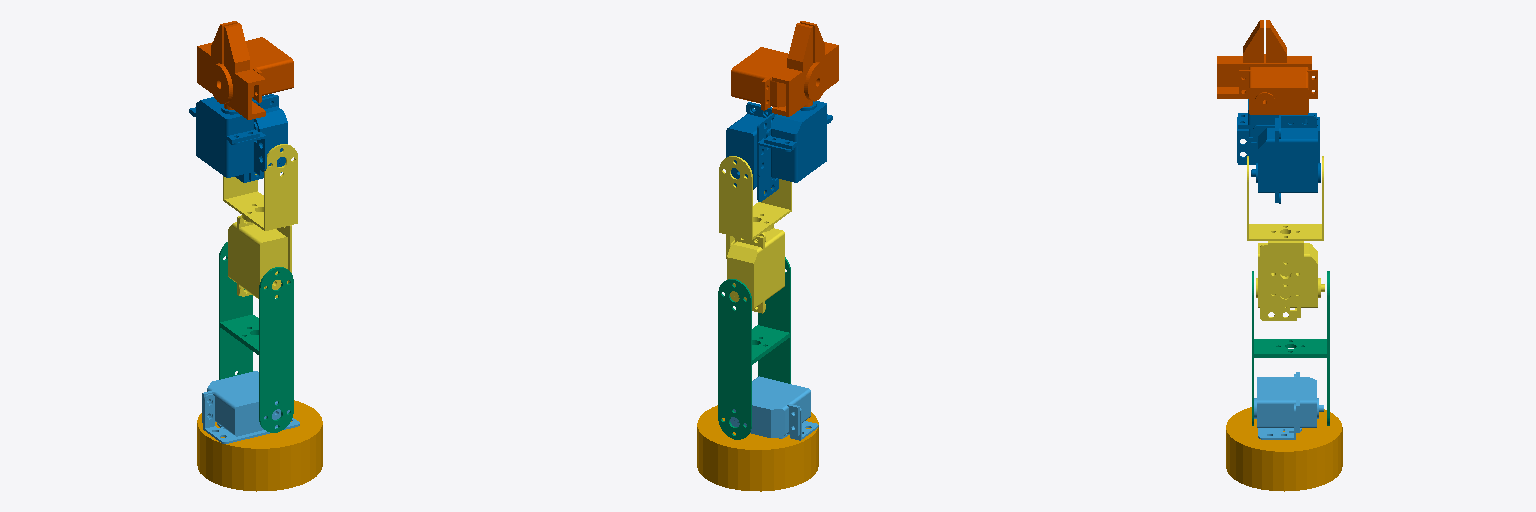
robot.urdf — robot_arm:
<?xml version="1.0"?>
<robot name="robot_arm">
    <link name="base">
        <visual>
            <origin xyz="0 0 -0.015" rpy="0 0 0"/>
            <geometry>
                <cylinder radius="0.04" length="0.03"/>
            </geometry>
        </visual>
        <collision>
            <origin xyz="0 0 -0.015" rpy="0 0 0"/>
            <geometry>
                <cylinder radius="0.04" length="0.03"/>
            </geometry>
        </collision>
    </link>
    <link name="upper_arm">
        <visual>
            <origin xyz="0 0 0" rpy="0 0 0"/>
            <geometry>
                <mesh filename="package://robot_arm_description/models/upper_arm.stl"/>
            </geometry>
        </visual>
        <collision>
            <origin xyz="0 0 0" rpy="0 0 0"/>
            <geometry>
                <mesh filename="package://robot_arm_description/models/upper_arm.stl"/>
            </geometry>
        </collision>
    </link>
    <link name="arm">
        <visual>
            <origin xyz="0 0 0" rpy="0 0 0"/>
            <geometry>
                <mesh filename="package://robot_arm_description/models/arm.stl"/>
            </geometry>
        </visual>
        <collision>
            <origin xyz="0 0 0" rpy="0 0 0"/>
            <geometry>
                <mesh filename="package://robot_arm_description/models/arm.stl"/>
            </geometry>
        </collision>
    </link>
    <link name="forearm">
        <visual>
            <origin xyz="0 0.001 0" rpy="0 0 0"/>
            <geometry>
                <mesh filename="package://robot_arm_description/models/forearm.stl"/>
            </geometry>
        </visual>
        <collision>
            <origin xyz="0 0.001 0" rpy="0 0 0"/>
            <geometry>
                <mesh filename="package://robot_arm_description/models/forearm.stl"/>
            </geometry>
        </collision>
    </link>
    <link name="hand">
        <visual>
            <origin xyz="0 0 0" rpy="0 0 0"/>
            <geometry>
                <mesh filename="package://robot_arm_description/models/hand.stl"/>
            </geometry>
        </visual>
        <collision>
            <origin xyz="0 0 0" rpy="0 0 0"/>
            <geometry>
                <mesh filename="package://robot_arm_description/models/hand.stl"/>
            </geometry>
        </collision>
    </link>
    <link name="fingers">
        <visual>
            <origin xyz="0 0 0" rpy="0 0 0"/>
            <geometry>
                <mesh filename="package://robot_arm_description/models/fingers.stl"/>
            </geometry>
        </visual>
        <collision>
            <origin xyz="0 0 0" rpy="0 0 0"/>
            <geometry>
                <mesh filename="package://robot_arm_description/models/fingers.stl"/>
            </geometry>
        </collision>
    </link>
    <link name="tcp_link"/>
    <joint name="shoulder_psi" type="continuous">
        <parent link="base"/>
        <child link="upper_arm"/>
        <origin xyz="0 0 0"/>
        <axis xyz = "0 0 1"/>
    </joint>
    <joint name="shoulder_theta" type="continuous">
        <parent link="upper_arm"/>
        <child link="arm"/>
        <origin xyz="0 0 0.014195"/>
        <axis xyz = "0 1 0"/>
    </joint>
    <joint name="elbow" type="continuous">
        <parent link="arm"/>
        <child link="forearm"/>
        <origin xyz="0 0 0.0912"/>
        <axis xyz = "0 -1 0"/>
    </joint>
    <joint name="wrist_theta" type="continuous">
        <parent link="forearm"/>
        <child link="hand"/>
        <origin xyz="0 0 0.08698"/>
        <axis xyz = "0 1 0"/>
    </joint>
    <joint name="wrist_psi" type="continuous">
        <parent link="hand"/>
        <child link="fingers"/>
        <origin xyz="-0.0284 -0.013296 0.041274"/>
        <axis xyz = "0 0 1"/>
    </joint>
    <joint name="tcp_joint" type="fixed">
        <parent link="fingers"/>
        <child link="tcp_link"/>
        <origin xyz="0 0 0.06"/>
        <axis xyz = "0 0 1"/>
    </joint>
</robot>

--- Render facts (derived) ---
3 views of the same robot in one strip: view 1: azimuth 30°, elevation 25°; view 2: azimuth 150°, elevation 25°; view 3: azimuth 270°, elevation 25° (orthographic).
Model robot_arm with 7 links and 6 joints (5 continuous, 1 fixed), rooted at base, posed all joints at 0.
Visible links, largest first — view 1: arm, forearm, base, fingers, hand, upper_arm; view 2: arm, forearm, hand, base, fingers, upper_arm; view 3: base, fingers, forearm, hand, upper_arm, arm.
Boxes of the visible links, box(x1,y1,x2,y2) form: arm: box(219, 242, 293, 432); forearm: box(223, 144, 297, 298); base: box(197, 400, 322, 491); fingers: box(197, 21, 293, 119); hand: box(189, 94, 287, 182); upper_arm: box(202, 371, 299, 443); arm: box(718, 257, 790, 439); forearm: box(719, 156, 791, 313); hand: box(726, 101, 832, 201); base: box(697, 405, 818, 491); fingers: box(731, 21, 838, 116); upper_arm: box(730, 376, 818, 440); base: box(1226, 407, 1342, 491); fingers: box(1217, 20, 1317, 114); forearm: box(1247, 156, 1324, 320); hand: box(1237, 99, 1320, 203); upper_arm: box(1254, 372, 1323, 439); arm: box(1252, 271, 1329, 425).
Bounding box of the posed robot: 0.08 × 0.0858 × 0.3216 m (x, y, z).
5 mesh visuals loaded from 5 distinct referenced files (5 binary STL).